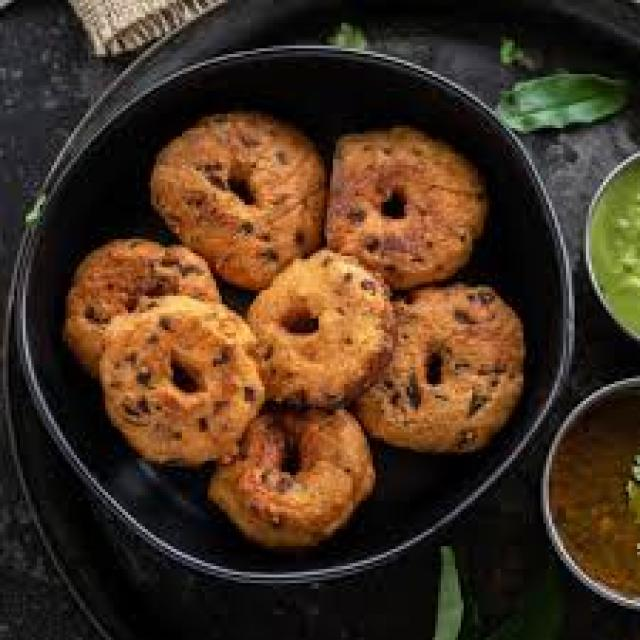MEDU VADA: (154, 114, 324, 287), (356, 284, 521, 449), (100, 296, 262, 464), (327, 125, 486, 287), (208, 410, 373, 546), (247, 250, 387, 401), (63, 239, 171, 373)
